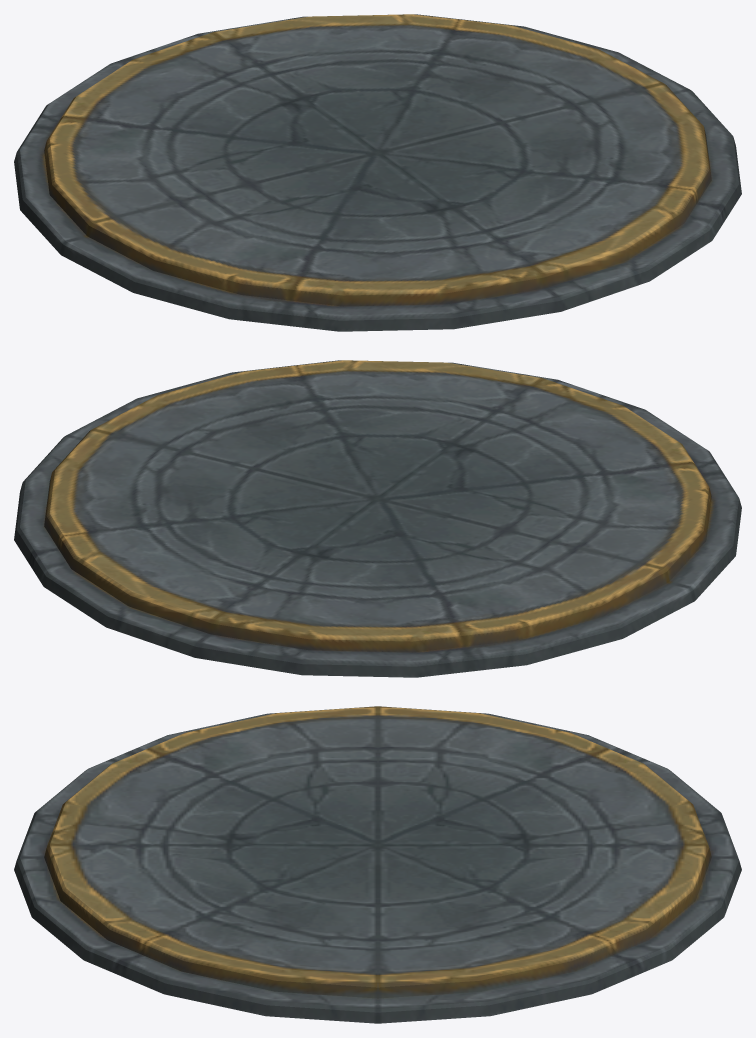
The model's file is shipan.FBX.
The picture shows the model from 3 angles, top to bottom: view 1: azimuth 30°, elevation 25°; view 2: azimuth 150°, elevation 25°; view 3: azimuth 270°, elevation 25°; orthographic projection.
Visible parts, largest first — view 1: 3DUIshipan; view 2: 3DUIshipan; view 3: 3DUIshipan.
Part boxes in pixels (left/top/right/bottom): 3DUIshipan: left=14, top=14, right=741, bottom=331; 3DUIshipan: left=14, top=360, right=741, bottom=677; 3DUIshipan: left=14, top=706, right=741, bottom=1023.
Size of the model in its own units: 1.92 by 1.92 by 0.0723.
